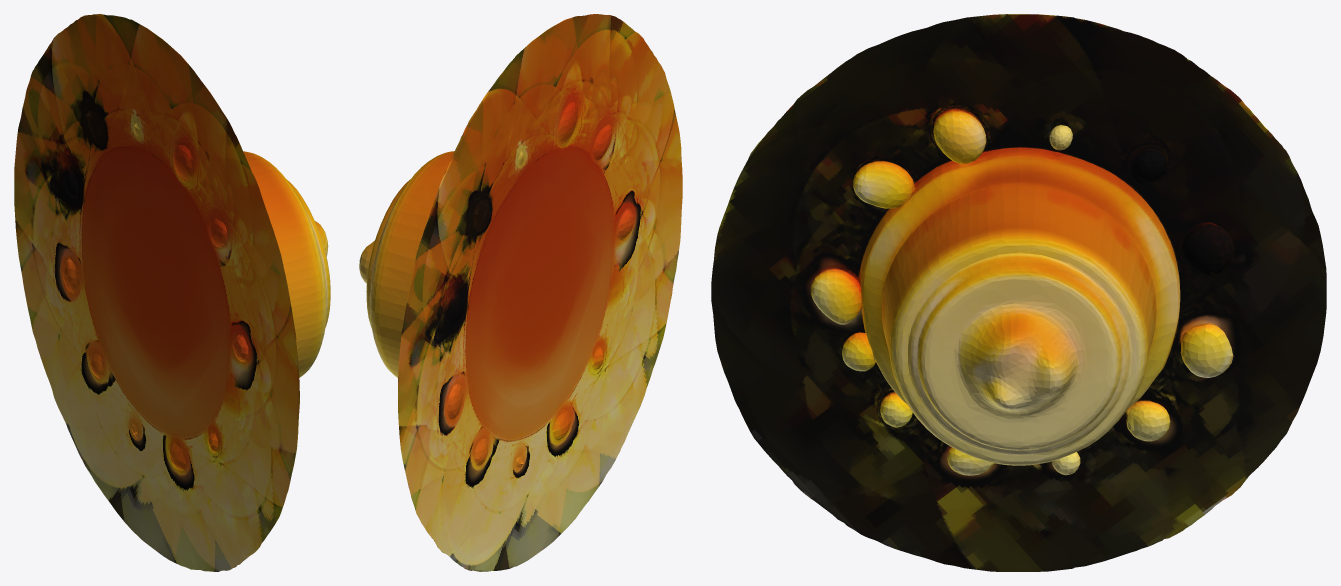
File: food_pile_small_comfyui.glb
The picture shows the model from 3 angles, left to right: view 1: azimuth 30°, elevation 25°; view 2: azimuth 150°, elevation 25°; view 3: azimuth 270°, elevation 25°; orthographic projection. The views are drawn at different scales.
Bounding box in the file's own units: 0.3455 × 1 × 1.
Materials: 1 (1 with a texture image).
